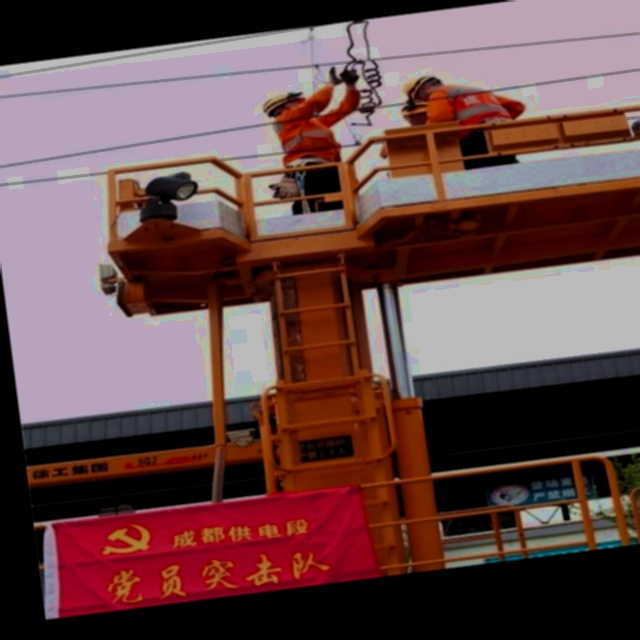Con_Chaleco: (427, 78, 522, 125), (268, 108, 340, 164)
